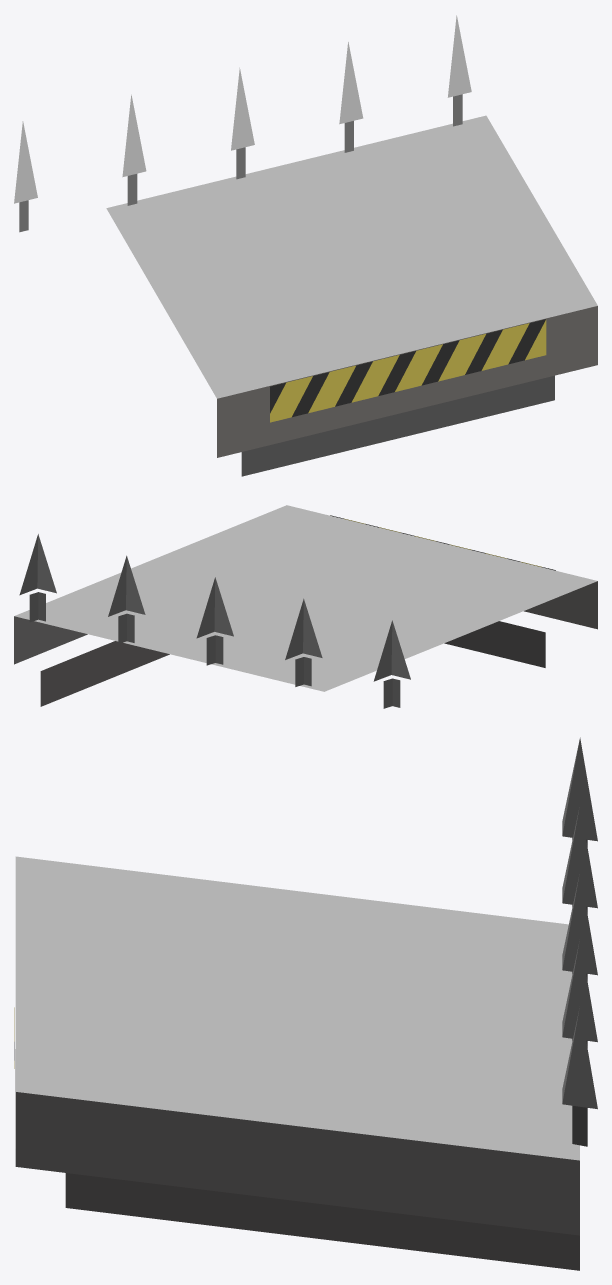
The model's file is Spike_Field_03.FBX.
The picture shows the model from 3 angles, top to bottom: view 1: azimuth 30°, elevation 25°; view 2: azimuth 150°, elevation 25°; view 3: azimuth 270°, elevation 25°; orthographic projection. The views are drawn at different scales.
Visible parts, largest first — view 1: Spike_Field_03; view 2: Spike_Field_03; view 3: Spike_Field_03.
Boxes of the visible parts, x1=… form: Spike_Field_03: x1=14, y1=15, x2=597, y2=476; Spike_Field_03: x1=14, y1=505, x2=597, y2=708; Spike_Field_03: x1=14, y1=737, x2=597, y2=1270.
Bounding box in the file's own units: 13.76 × 5.65 × 11.17.
